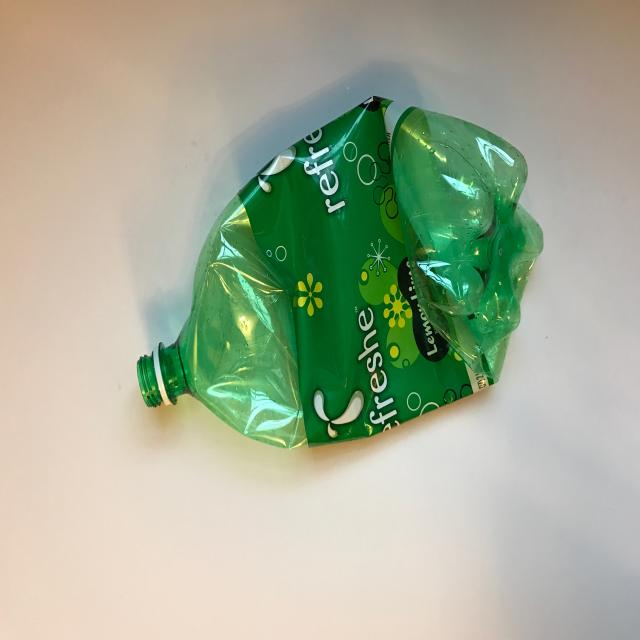plastic: (136, 93, 542, 450)
